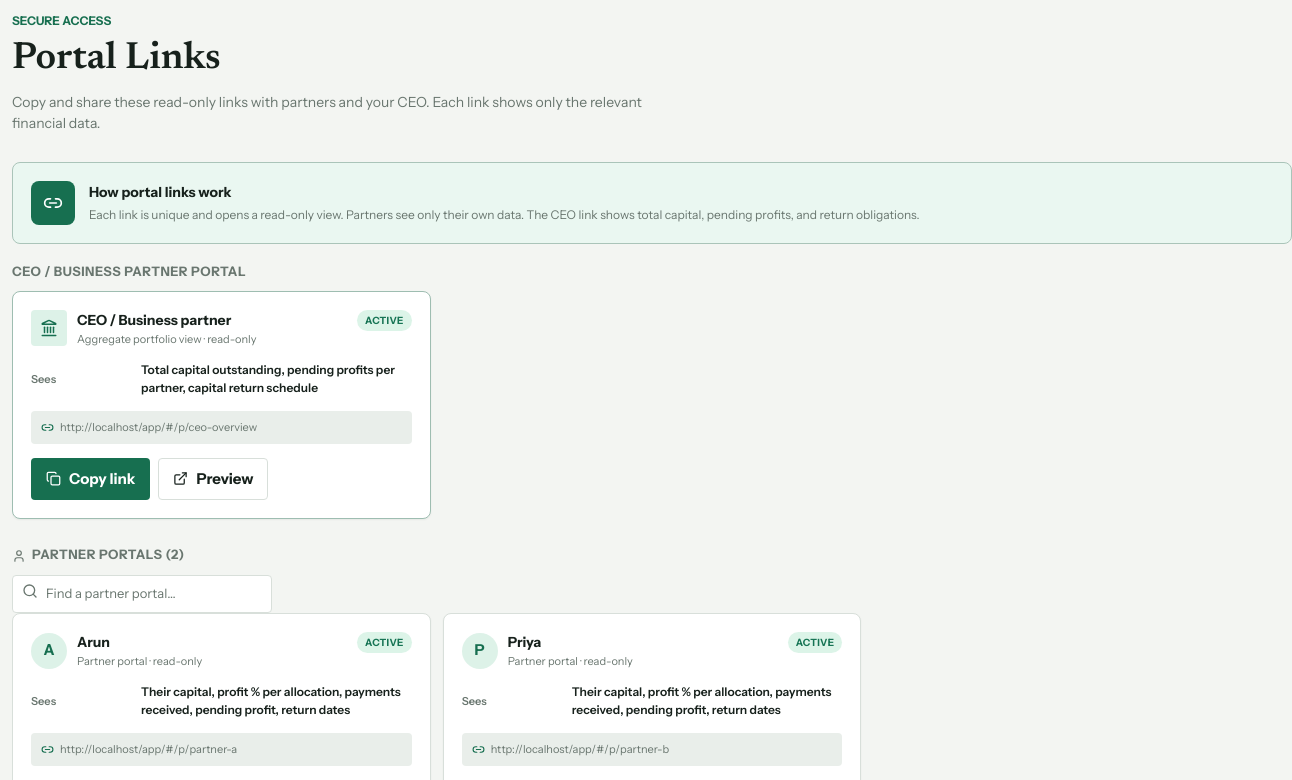
filters partner portals and recovers from an empty search
The image size is (1292, 780).
Type "priya" into the search field labelled "Find a partner portal". click: (142, 594)
box: [12,575,272,613]
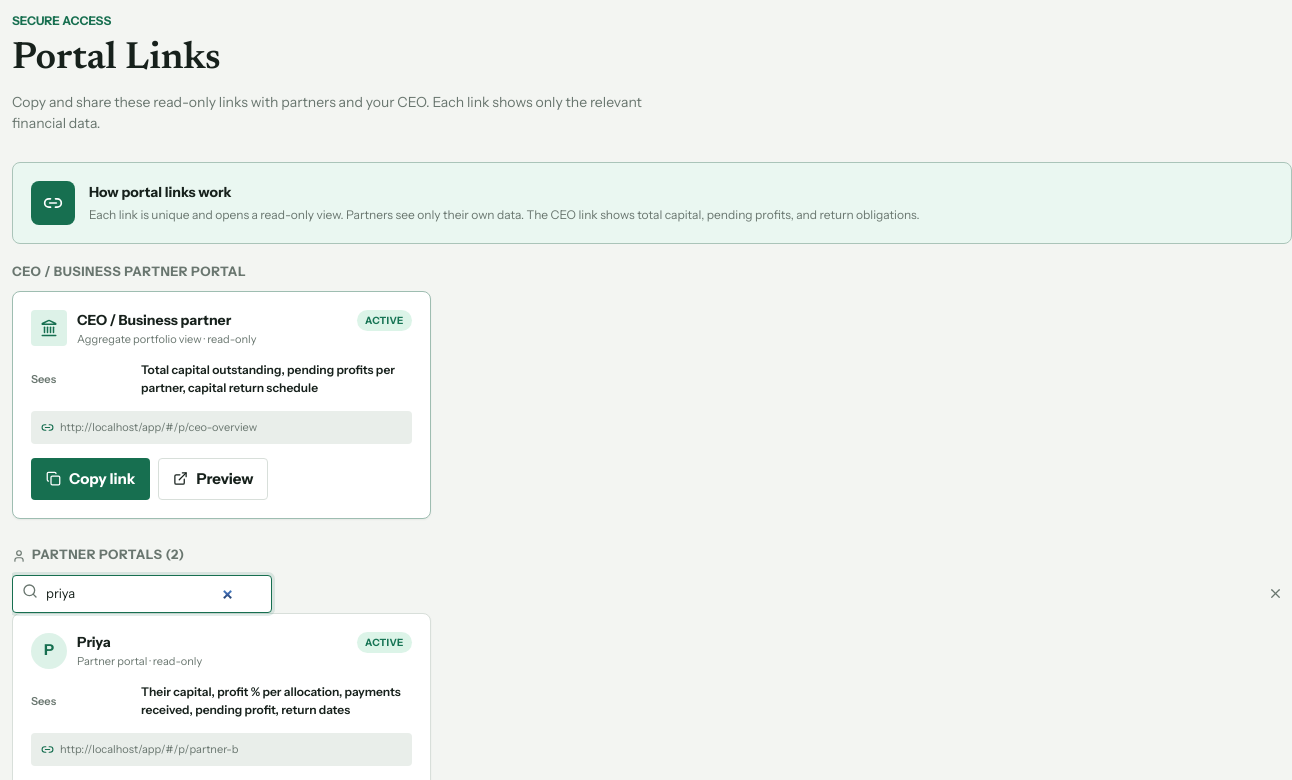
Expected: the text "Priya" is shown, [77,633,111,651]
Expected: the text "Arun" is gone
Replace the text in the search field named "Find a partner portal" with "missing". click: (142, 594)
box: [12,575,272,613]
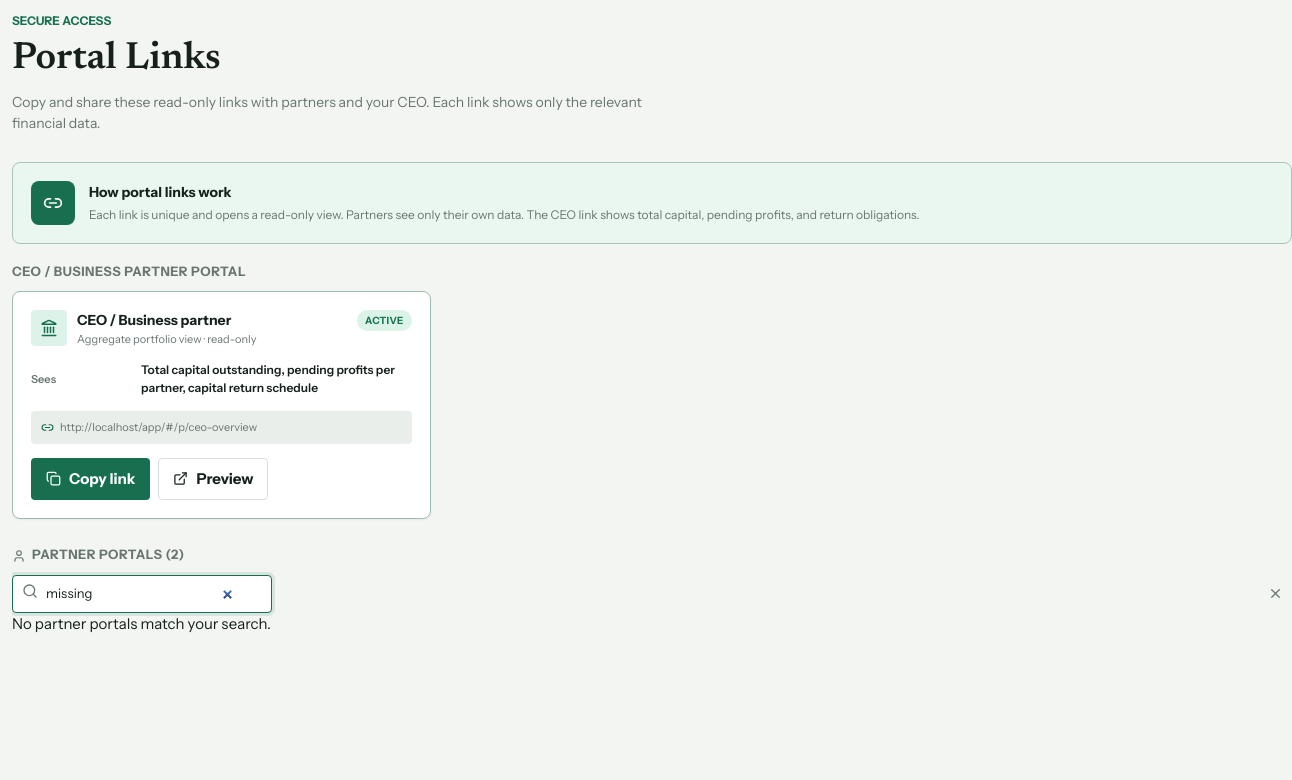
Expected: the message shows "No partner portals", [12,614,271,633]
Click the button named "Clear search". click: click(1274, 594)
box: [1262,582,1286,606]
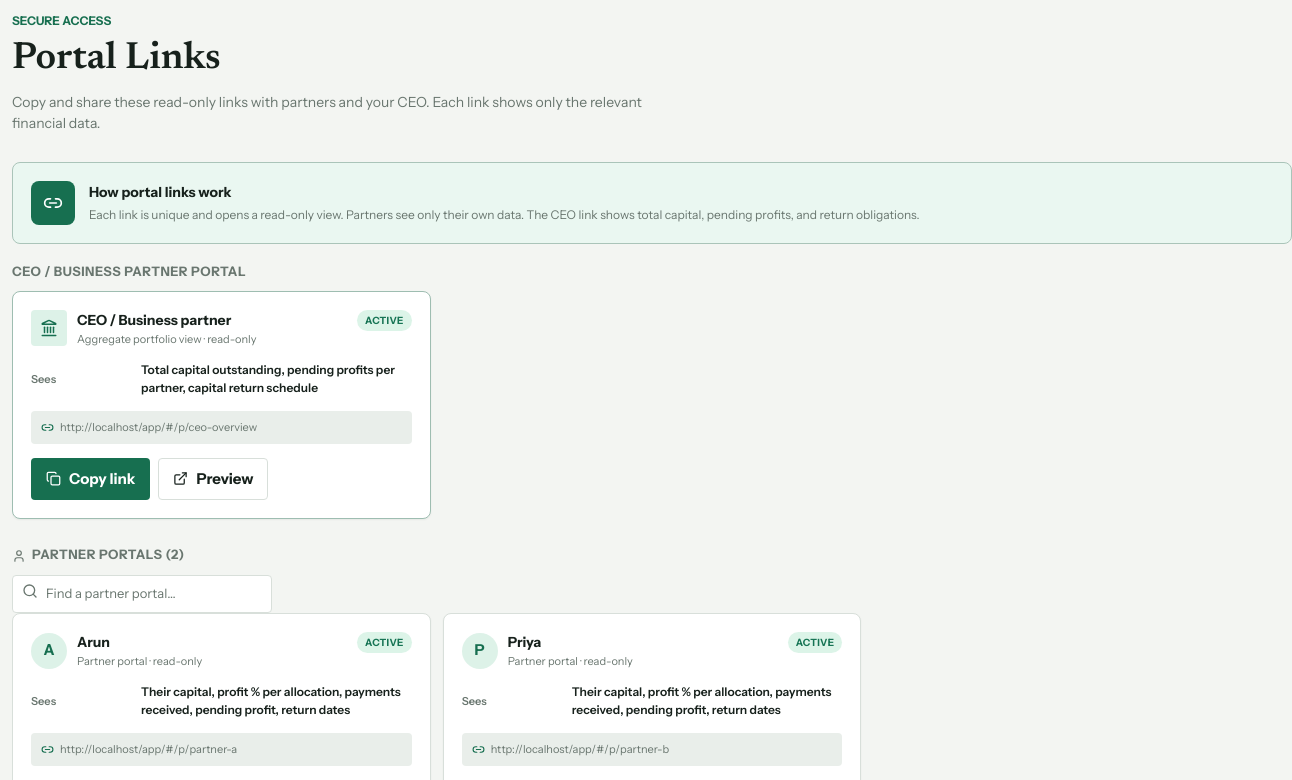
Expected: the text "Arun" is shown, [77,633,110,651]
